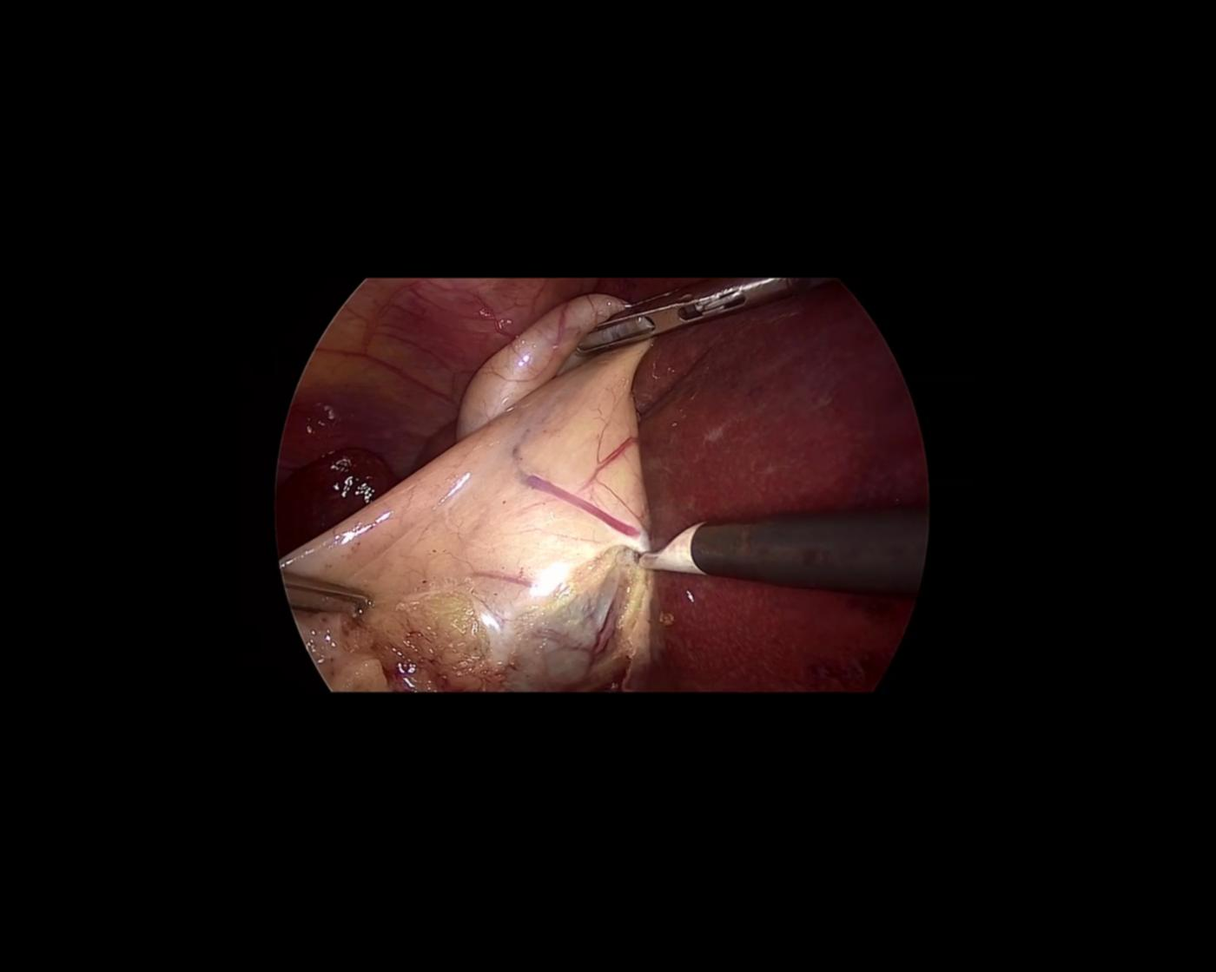Cautery: (638, 495, 928, 599)
Forceps: (567, 241, 837, 358), (274, 568, 379, 631)
Gallbladder: (276, 295, 653, 694)
Liver: (637, 282, 925, 692), (242, 364, 477, 557)
